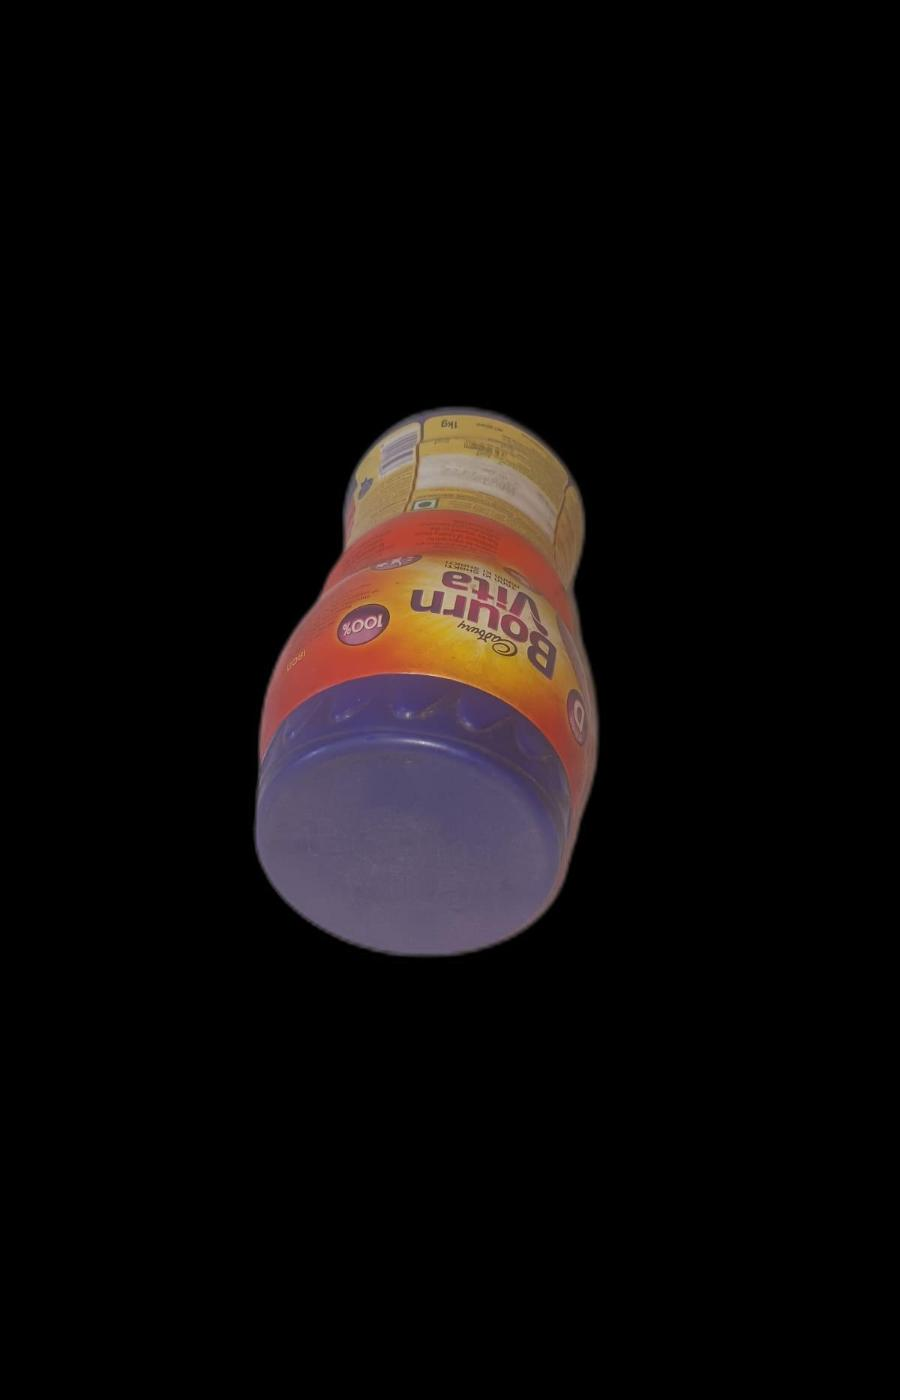Cadbury Bournvita Chocolate Health Drink-1kg-: (240, 397, 604, 951)
